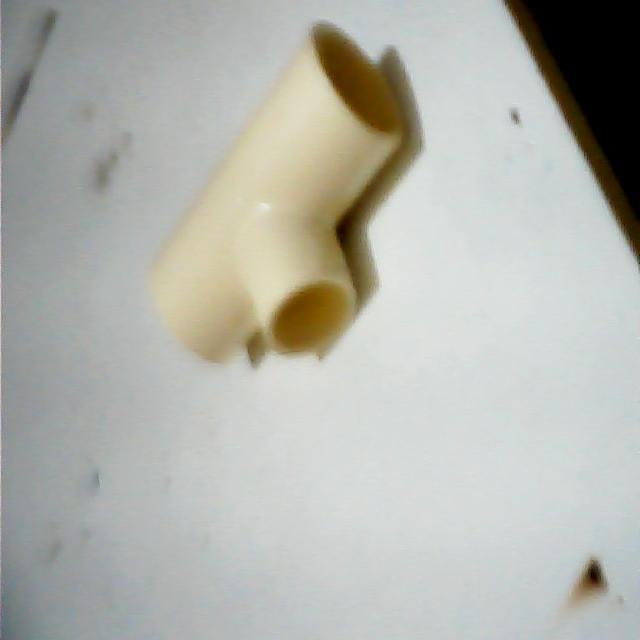T Joint: (148, 21, 413, 369)
